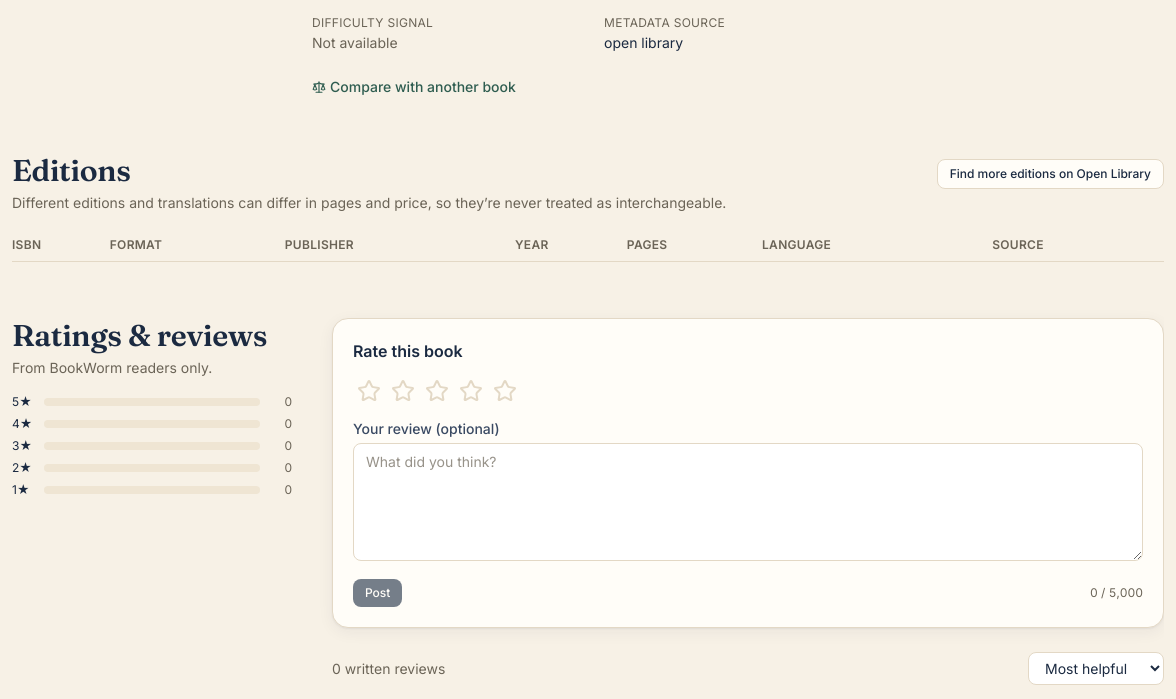
Test: Review form › posting shows the review at once without reloading the rest of the page
(page scrolled)
Step 1. Click the radio button named "4 stars" → (471, 391), box left=455, top=375, right=487, bottom=407
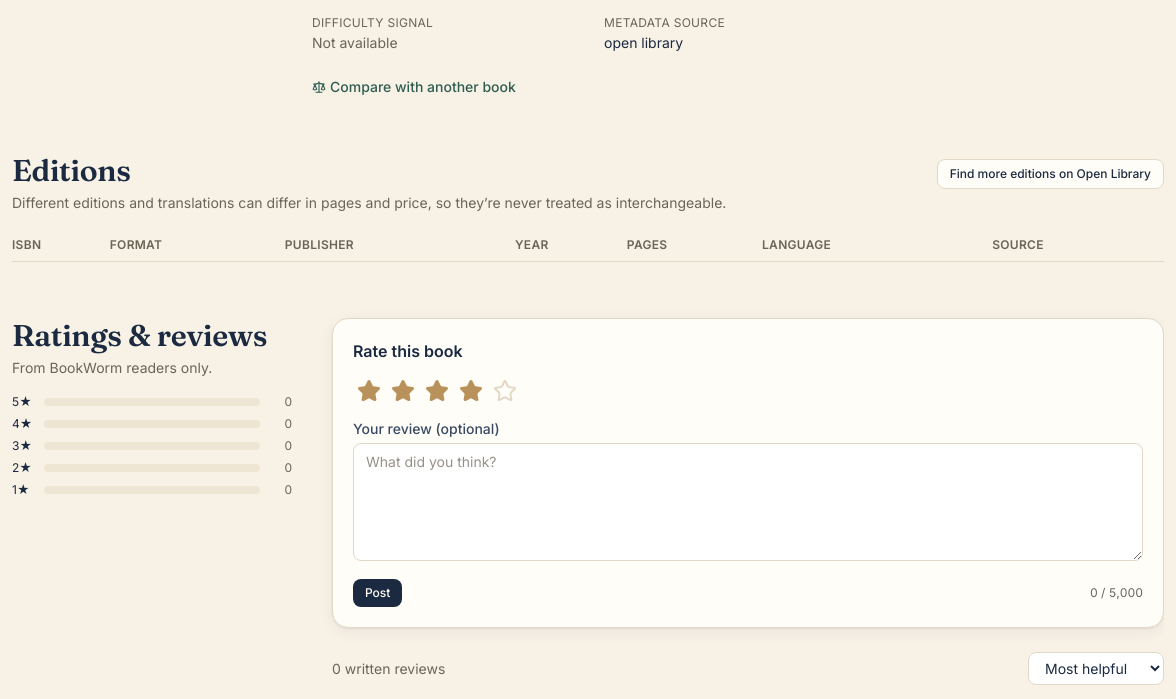
Step 2. Type "Great" into the text box labelled "Your review (optional)" → (748, 502), box left=353, top=443, right=1143, bottom=561
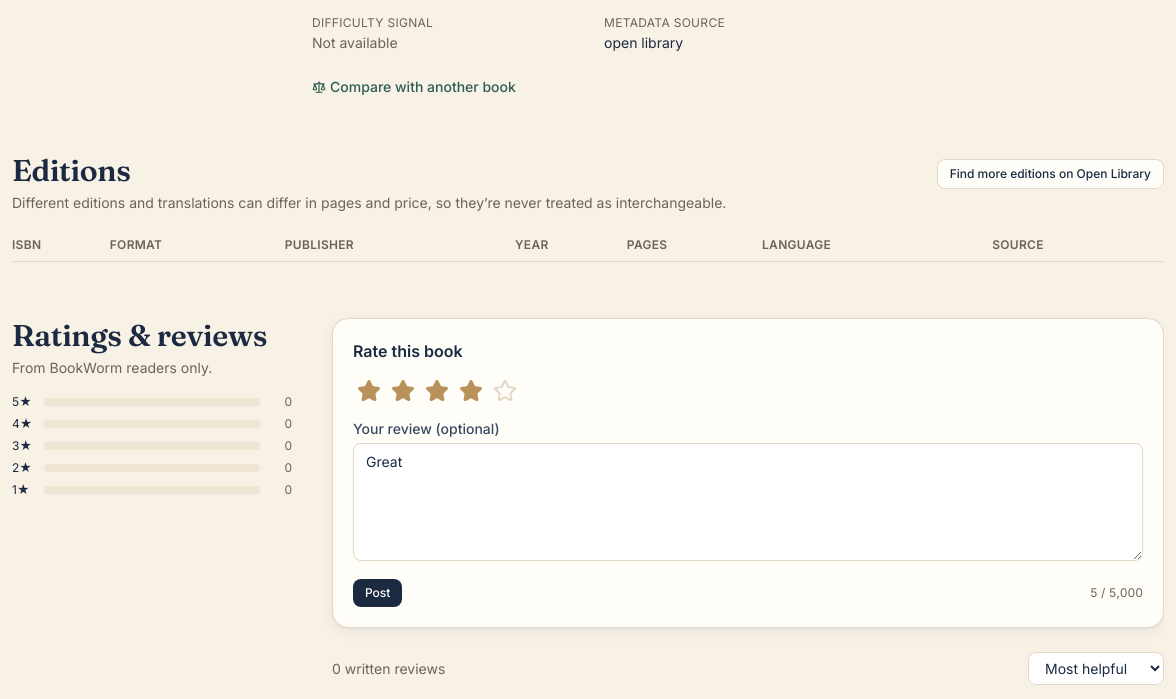
Step 3. Click the button "Post" → (378, 593), box left=353, top=579, right=402, bottom=607
(page scrolled)
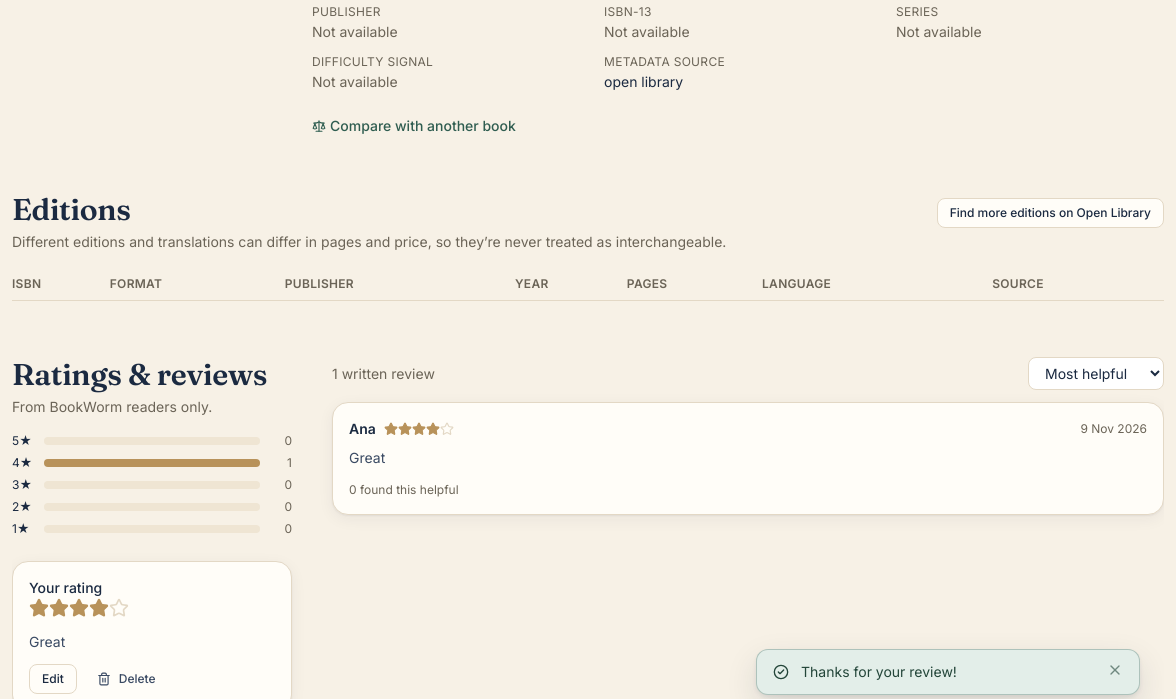
Expected: the text "Your rating" is shown, left=29, top=579, right=102, bottom=596
